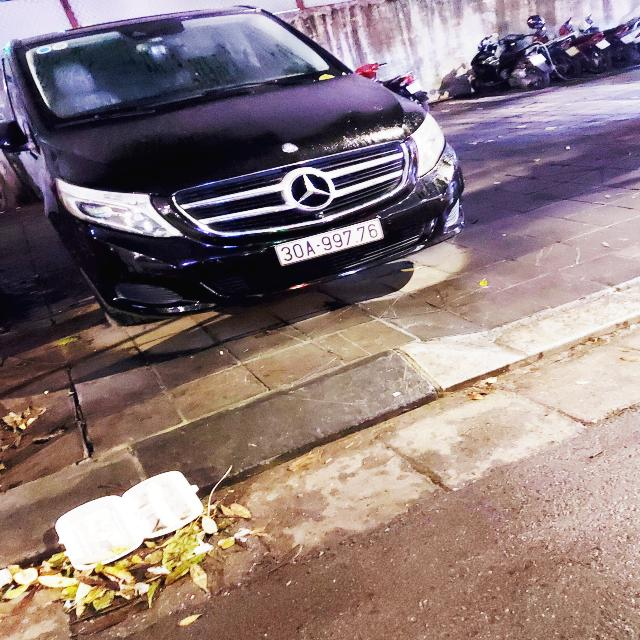license_plate: (273, 218, 387, 268)
